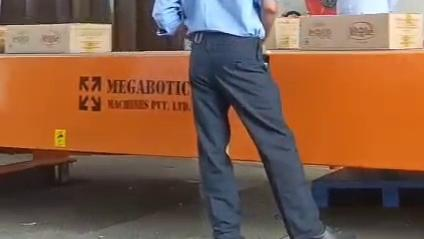box: (300, 13, 423, 49), (5, 24, 111, 53), (266, 17, 299, 48)
